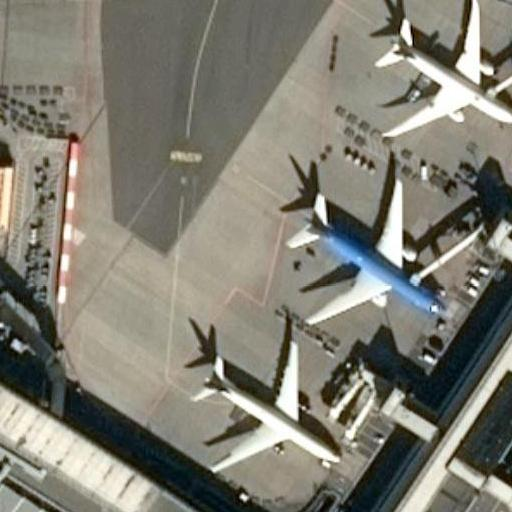Aircraft: (273, 171, 450, 324), (183, 327, 342, 474), (367, 0, 512, 136)
